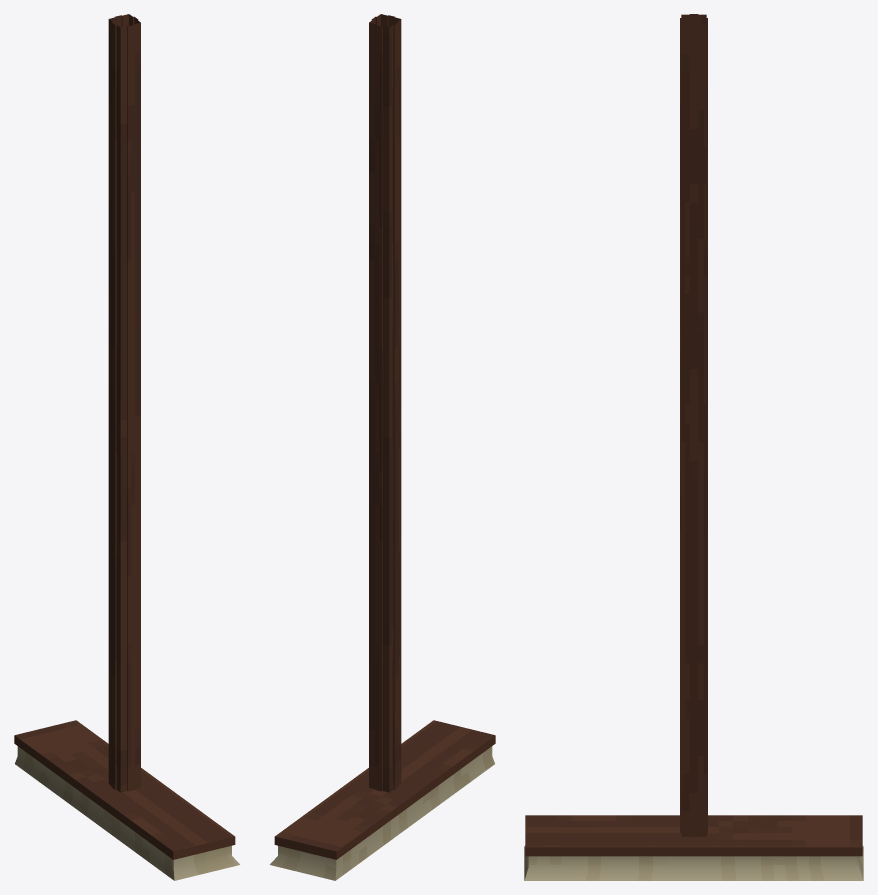
Rendered from Mop.fbx.
The picture shows the model from 3 angles, left to right: view 1: azimuth 30°, elevation 25°; view 2: azimuth 150°, elevation 25°; view 3: azimuth 270°, elevation 25°; orthographic projection. The views are drawn at different scales.
Parts seen in each view (by area): view 1: Mop; view 2: Mop; view 3: Mop.
Boxes of the visible parts, x1,y1,x2,y2 form: Mop: (14, 14, 239, 880); Mop: (270, 14, 495, 880); Mop: (524, 14, 863, 880).
Bounding box in the file's own units: 6.52 × 74.23 × 27.08.
